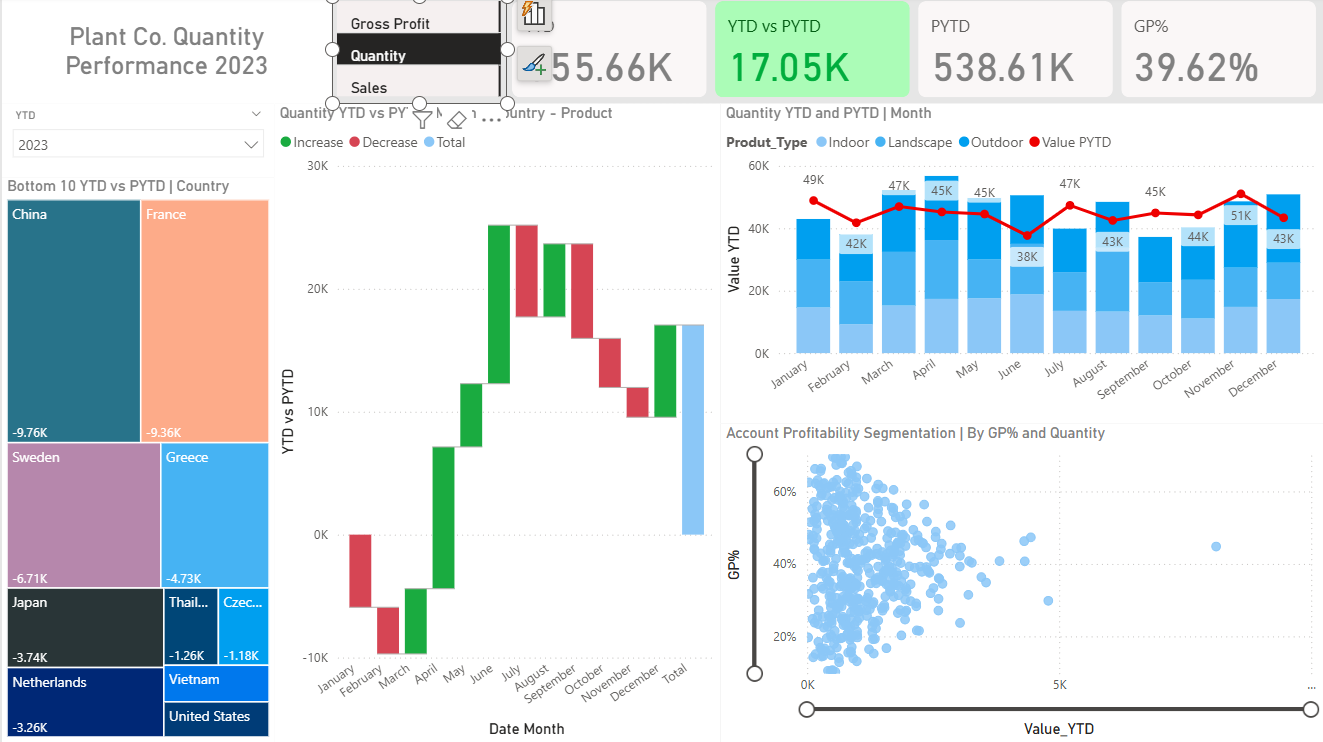

This screenshot's page, from the dashboard's own definition file:
{"tool":"powerbi","page":{"name":"Page 1","canvas":[1280,720],"ordinal":0},"visuals":[{"type":"cardVisual","fields":{"Data":["_Measures.S_YTD","_Measures.YTD vs PYTD","_Measures.S_PYTD","_Measures.GP%"]},"box":[492.2,0,787.8,103.8],"z":0},{"type":"advancedSlicerVisual","fields":{"Values":["Slc_values.Values"]},"box":[323.3,0,168.9,103.8],"z":1000},{"type":"slicer","fields":{"Values":["Dim_Date.Date.Variation.Date Hierarchy.Year"]},"box":[4.8,103.8,263,71.2],"z":2000},{"type":"treemap","title":"Bottom 10 YTD vs PYTD | Country","fields":{"Group":["Dim_Accounts.country"],"Values":["_Measures.YTD vs PYTD"]},"box":[4.8,174.9,263,545.3],"z":3000},{"type":"waterfallChart","fields":{"Y":["_Measures.YTD vs PYTD"],"Category":["Dim_Date.Date.Variation.Date Hierarchy.Month","Dim_Accounts.country","Dim_Product.Produt_Type","Dim_Product.Product_Name"]},"box":[267.8,103.8,430.7,616.5],"z":4000},{"type":"lineStackedColumnComboChart","fields":{"Y":["_Measures.S_YTD"],"Y2":["_Measures.S_PYTD"],"Category":["Dim_Date.Date.Variation.Date Hierarchy.Quarter","Dim_Date.Date.Variation.Date Hierarchy.Month"],"Series":["Dim_Product.Produt_Type"]},"box":[698.5,103.8,581.5,308.8],"z":5000},{"type":"scatterChart","fields":{"X":["_Measures.S_YTD"],"Y":["_Measures.GP%"],"Category":["Dim_Accounts.Account"]},"box":[698.5,412.6,581.5,307.6],"z":6000},{"type":"card","fields":{"Values":["_Measures._report_title"]},"box":[4.8,0,318.5,103.8],"z":7000}]}

Visuals, with their boxes on the page's 1280x720 design canvas (x1, y1, x2, y2). These are canvas units, not pixel positions in the 1323x742 screenshot, which may show the page scaled, cropped or inside an application window:
cardVisual - _Measures.S_YTD x _Measures.YTD vs PYTD: crop(492, 0, 1280, 104)
advancedSlicerVisual - Slc_values.Values: crop(323, 0, 492, 104)
slicer - Dim_Date.Date.Variation.Date Hierarchy.Year: crop(5, 104, 268, 175)
"Bottom 10 YTD vs PYTD | Country" treemap: crop(5, 175, 268, 720)
waterfallChart - _Measures.YTD vs PYTD x Dim_Date.Date.Variation.Date Hierarchy.Month: crop(268, 104, 698, 720)
lineStackedColumnComboChart - _Measures.S_YTD x _Measures.S_PYTD: crop(698, 104, 1280, 413)
scatterChart - _Measures.S_YTD x _Measures.GP%: crop(698, 413, 1280, 720)
card - _Measures._report_title: crop(5, 0, 323, 104)
